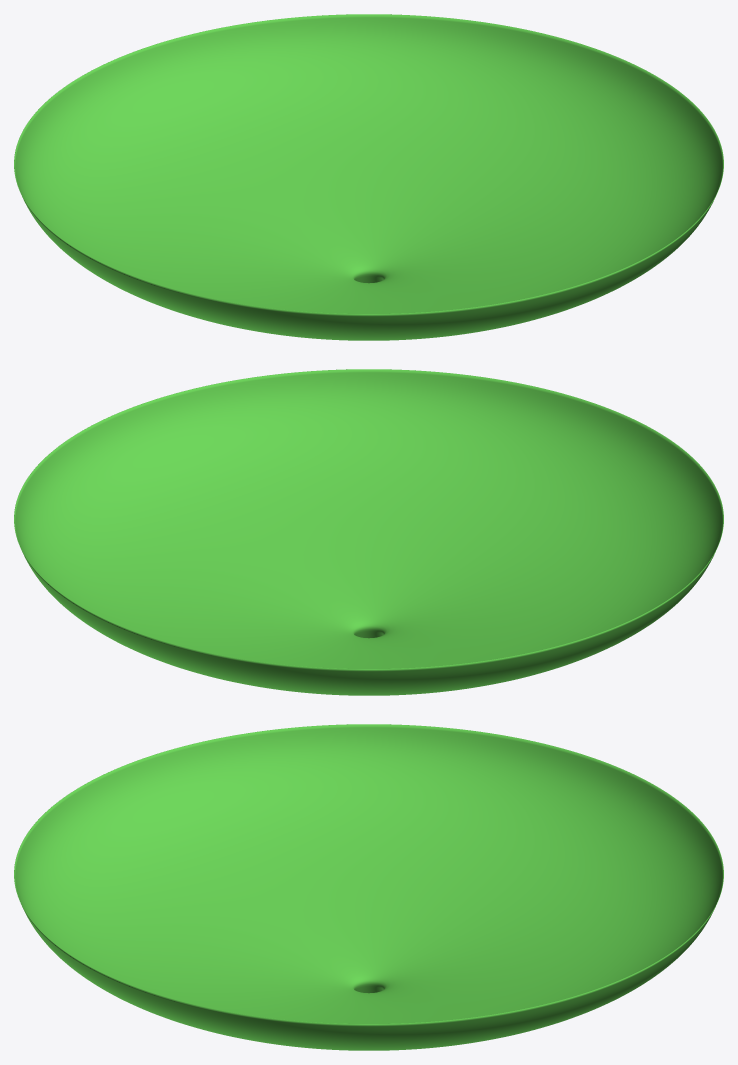
File: Teller5.fbx
3 renders of one model, top to bottom at view 1: azimuth 30°, elevation 25°; view 2: azimuth 150°, elevation 25°; view 3: azimuth 270°, elevation 25°, orthographic.
Visible parts, largest first — view 1: Circle; view 2: Circle; view 3: Circle.
Boxes of the visible parts, <box> form: Circle: <box>14,14,723,340</box>; Circle: <box>14,369,723,695</box>; Circle: <box>14,724,723,1050</box>.
Bounding box in the file's own units: 149 × 39.93 × 149.
